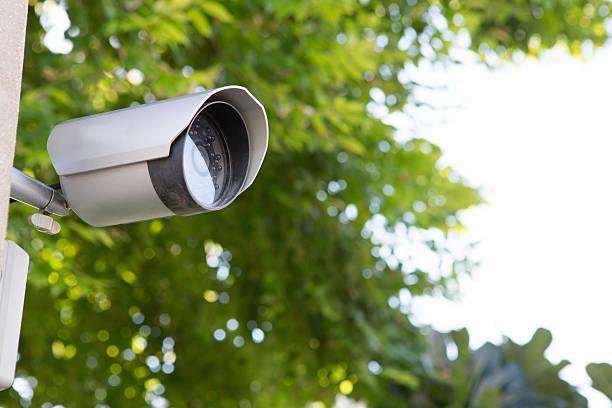camera: (12, 69, 305, 261)
